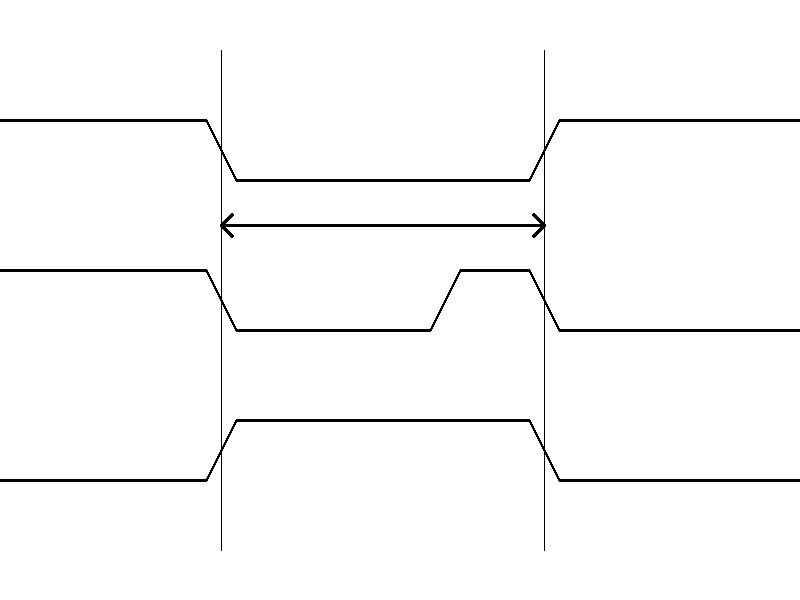double_arrow: (221, 210, 544, 240)
